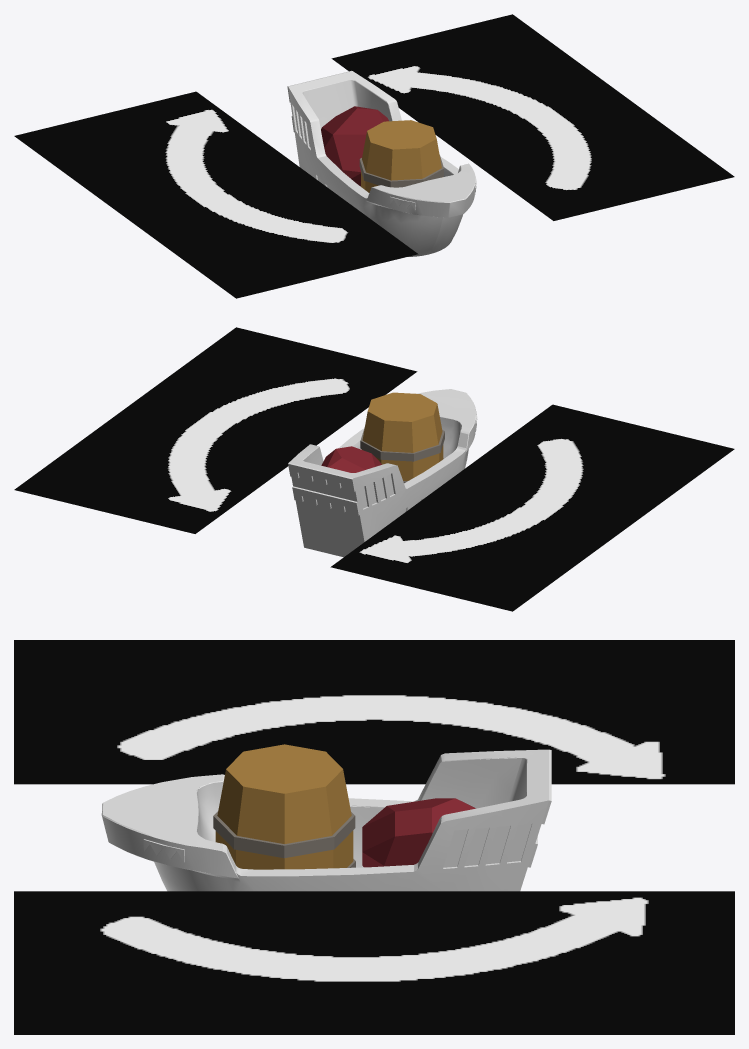
The model's file is Boat.gltf.
3 renders of one model, top to bottom at view 1: azimuth 30°, elevation 25°; view 2: azimuth 150°, elevation 25°; view 3: azimuth 270°, elevation 25°, orthographic. The views are drawn at different scales.
Parts seen in each view (by area): view 1: RotateCCW, RotateCW, Boat, Barrel, Ruby; view 2: RotateCCW, RotateCW, Boat, Barrel, Ruby; view 3: RotateCW, RotateCCW, Boat, Barrel, Ruby.
Part boxes in pixels (bbox=[...]): RotateCCW: bbox=[14, 91, 418, 298]; RotateCW: bbox=[331, 14, 734, 220]; Boat: bbox=[287, 70, 476, 256]; Barrel: bbox=[359, 120, 443, 192]; Ruby: bbox=[321, 106, 388, 186]; RotateCCW: bbox=[330, 404, 734, 611]; RotateCW: bbox=[14, 327, 417, 533]; Boat: bbox=[288, 389, 477, 557]; Barrel: bbox=[360, 392, 444, 483]; Ruby: bbox=[321, 446, 381, 472]; RotateCW: bbox=[14, 891, 734, 1034]; RotateCCW: bbox=[14, 640, 734, 784]; Boat: bbox=[101, 749, 551, 891]; Barrel: bbox=[213, 744, 355, 869]; Ruby: bbox=[362, 798, 475, 867].
Bounding box in the file's own units: 2.02 × 0.3856 × 1.56.
Materials: 5 (1 with a texture image).
